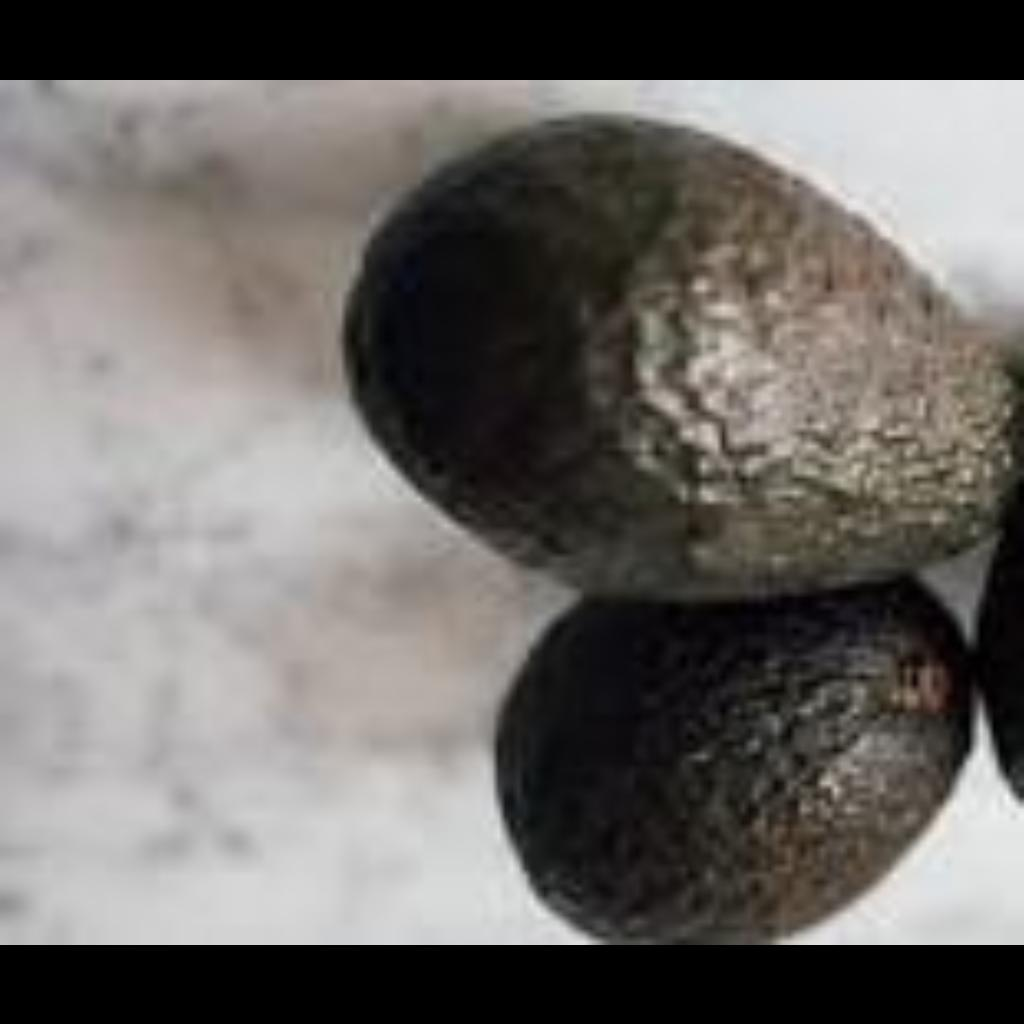antracnosis_fruto: (327, 102, 1001, 578), (486, 611, 948, 875)
